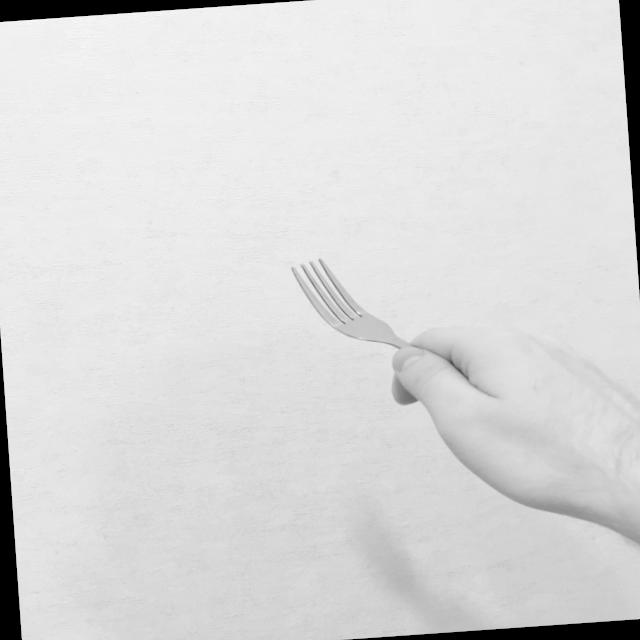fork: (290, 244, 490, 423)
